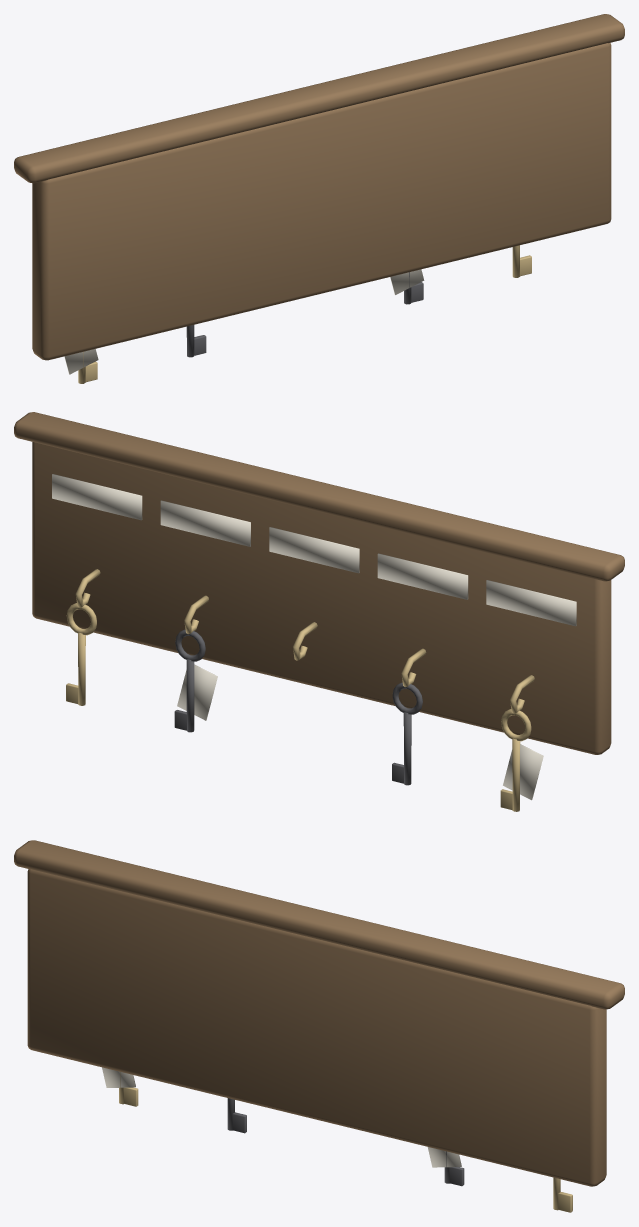
The model's file is ss_key_rack.glb.
3 renders of one model, top to bottom at view 1: azimuth 30°, elevation 25°; view 2: azimuth 150°, elevation 25°; view 3: azimuth 330°, elevation 25°, orthographic.
Visible parts, largest first — view 1: ss_key_rack; view 2: ss_key_rack; view 3: ss_key_rack.
Part boxes in pixels (bbox=[...]): ss_key_rack: bbox=[14, 14, 624, 383]; ss_key_rack: bbox=[14, 412, 624, 811]; ss_key_rack: bbox=[14, 840, 624, 1212].
Bounding box in the file's own units: 0.44 × 0.179 × 0.044.
